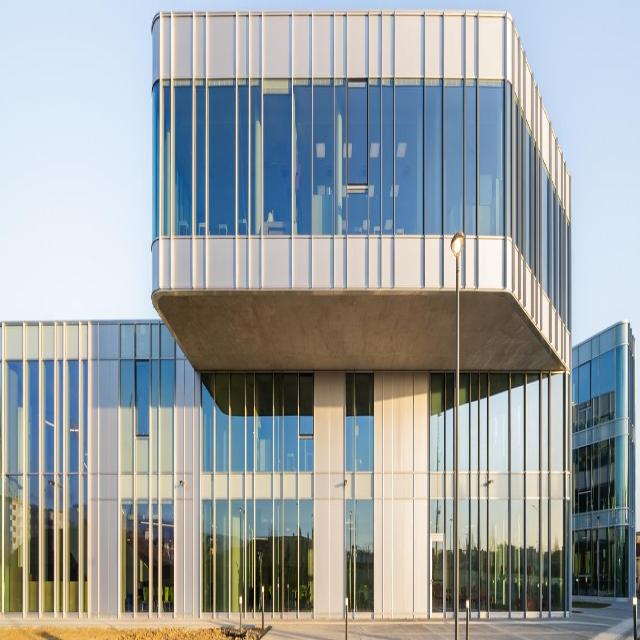door: (429, 532, 446, 616)
wall: (2, 9, 635, 624)
windows: (151, 75, 569, 330), (430, 363, 566, 612), (199, 366, 314, 612), (0, 340, 90, 624), (569, 328, 633, 614), (120, 326, 174, 608), (342, 369, 375, 615)
